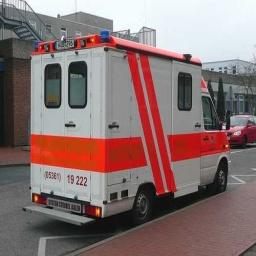Ambulance: (24, 31, 229, 224)
